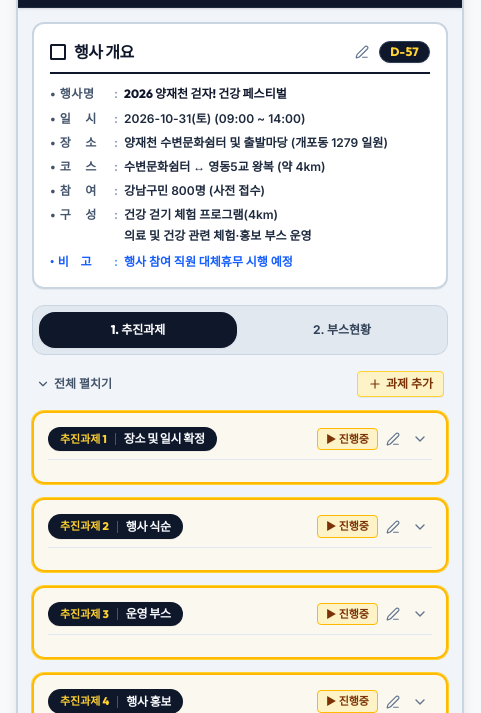
Test: Yangjae Festival Real-time Multi-Device Sync & UX Verification › R2. Default Collapsed State for Milestone Tasks › handles multiple individual task toggles independently and preserves O(1) state
The width and height of the screenshot is (481, 713).
Expand Task 1
Click the button "추진과제 1 장소 및 일시 확정" at x=180, y=439, box [48,427,311,451]
(page scrolled)
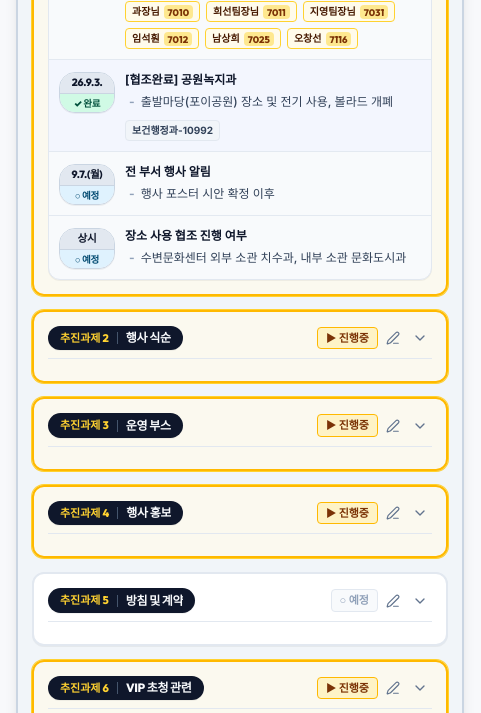
Expected: the text "08:00~08:30" is not shown
Expand Task 2
Click the button "추진과제 2 행사 식순" at x=180, y=338, box [48,326,311,350]
(page scrolled)
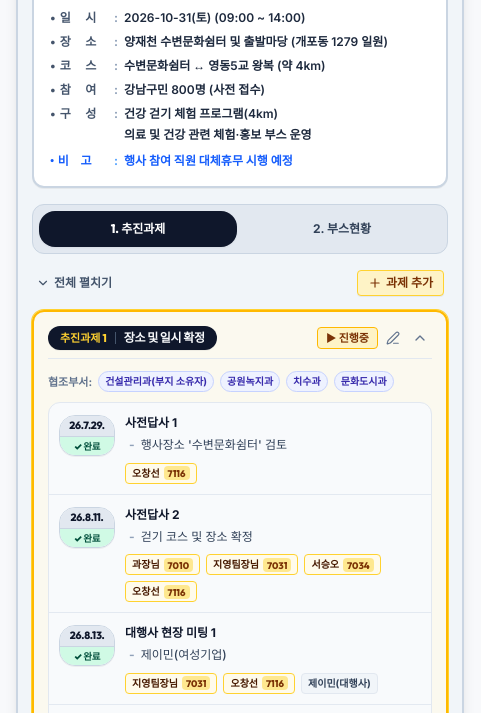
Now the text "행사장소 '수변문화쉼터' 검토" is shown, box [141,435,287,455]
Collapse Task 1 only
Click the button "추진과제 1 장소 및 일시 확정" at x=180, y=338, box [48,326,311,350]
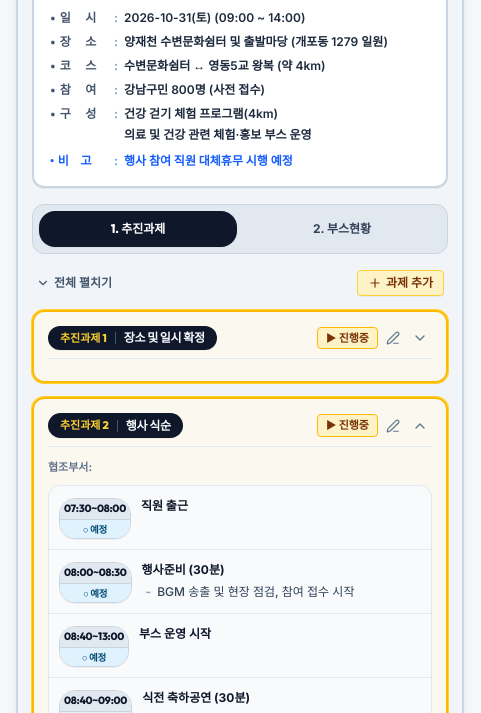
Now the text "08:00~08:30" is shown, box [60,563,131,584]
Now the text "행사장소 '수변문화쉼터' 검토" is gone
